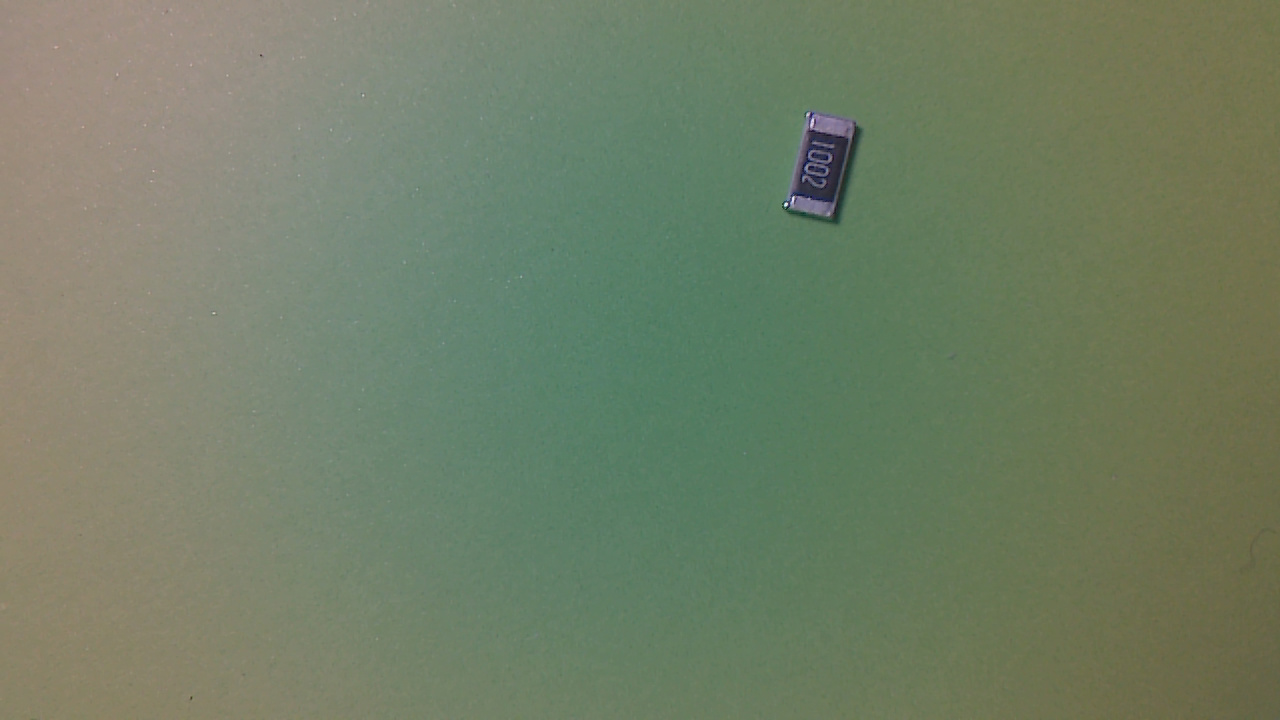Resistor: (783, 113, 868, 233)
